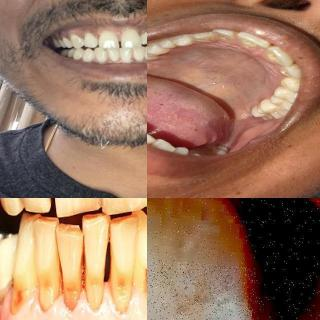Gum Swelling: (2, 286, 147, 320)
cavities: (42, 198, 52, 208)
maligned: (55, 222, 85, 314), (103, 198, 147, 222), (211, 27, 241, 47)
plaque: (104, 50, 112, 59), (130, 50, 136, 58)
stains: (238, 34, 266, 50), (275, 65, 309, 78), (260, 51, 292, 63), (272, 78, 302, 90), (215, 31, 241, 41), (192, 36, 220, 45), (181, 37, 203, 47), (165, 41, 185, 51), (276, 85, 294, 96)
